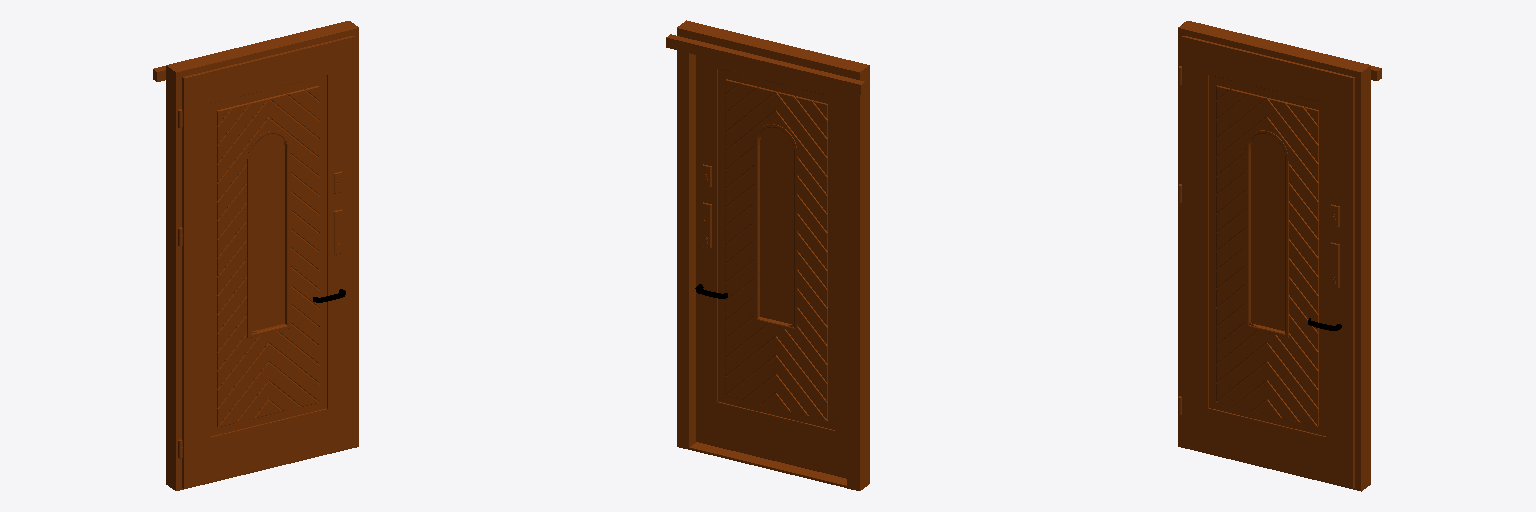
URDF robot description (urdf_door):
<?xml version="1.0" ?>
<robot name="urdf_door">
 <link name="world"/>
  <joint name="fixed" type="fixed">
    <parent link="world"/>
    <child link="baseLink"/>
    <origin xyz="0 0 0"/>
  </joint>

  <link name="baseLink">
    <inertial>
      <origin rpy="0 0 0" xyz="0 0 0"/>
       <mass value="0.1"/>
       <inertia ixx="0.1" ixy="0" ixz="0" iyy="0.1" iyz="0" izz="0.1"/>
    </inertial>
    <visual>
        <origin xyz='0 0 0' rpy='1.5707963267948966 0 0'/>
        <geometry>
          <mesh filename="door/055_frame.obj"  scale="0.01 0.01 0.01" />
        </geometry>
        <material name="brown">
          <color rgba="0.545 0.270 0.074 1"/>
        </material>
    </visual>
    <visual>
        <origin xyz='0 0.1 2' rpy='0 0 0'/>
        <geometry>
          <box size="1 0.04 0.05" />
        </geometry>
        <material name="brown">
          <color rgba="0.545 0.270 0.074 1"/>
        </material>
    </visual>
    <collision>
        <origin xyz='0 0 0' rpy='1.5707963267948966 0 0'/>
        <geometry>
          <mesh filename="door/055_frame_vhacd.obj"  scale="0.01 0.01 0.01" />
        </geometry>
        <material name="brown">
          <color rgba="0.545 0.270 0.074 1"/>
        </material>
    </collision>
    <collision>
        <origin xyz='0 0.1 2' rpy='0 0 0'/>
        <geometry>
          <box size="1 0.04 0.05" />
        </geometry>
        <material name="brown">
          <color rgba="0.545 0.270 0.074 1"/>
        </material>
    </collision>

  </link>
   <link name="childA">
    <inertial>
      <origin rpy="0 0 0" xyz="0 0 0"/>
      <mass value="0.1"/>
      <inertia ixx="0.048966669" ixy="0" ixz="0" iyy="0.046466667" iyz="0" izz="0.0041666669"/>
    </inertial>

    <visual>
    <origin xyz='0.45 0.04 0' rpy='1.5707963267948966 0 0'/>
    <geometry>
     <mesh filename="door/055_door.obj"  scale="0.01 0.01 0.01" />

    </geometry>
    <material name="brown">
        <color rgba="0.545 0.270 0.074 1"/>
    </material>

	</visual>
    <collision>
    <origin xyz='0.45 0.04 0' rpy='1.5707963267948966 0 0'/>
    <geometry>
     <mesh filename="door/055_door.obj"  scale="0.01 0.01 0.01" />
    </geometry>
    <material name="brown">
        <color rgba="0.545 0.270 0.074 1"/>
    </material>

    </collision>

   </link>


   <link name="knob">
    <inertial>
      <mass value="0.1"/>
      <inertia ixx="0.0" ixy="0" ixz="0" iyy="0.0" iyz="0" izz="0.0"/>
    </inertial>

    <visual>
    <geometry>
     <mesh filename="door/055_knob_centered.obj"  scale="0.01 0.01 0.01" />

    </geometry>
    <material name="black">
        <color rgba="0.0 0.0 0.0 1"/>
    </material>

  </visual>
    <collision>
    <geometry>
     <mesh filename="door/055_knob_centered.obj"  scale="0.01 0.01 0.01" />
    </geometry>
    <material name="black">
        <color rgba="0.0 0.0 0.0 1"/>
    </material>
    </collision>
   </link>



   <joint name="joint_baseLink_childA" type="revolute">
    <parent link="baseLink"/>
    <child link="childA"/>
	<dynamics damping="1.0" friction="0.0"/>
    <origin xyz="-0.45 -0.04 0"/>
    <axis xyz="0 0 1"/>
    <limit lower="-3.14159263" upper="0" />
  </joint>


  <joint name="door_to_knob" type="fixed">
  <parent link="childA"/>
  <child link="knob"/>
  <origin xyz="0.78 0.04 0.8" rpy="1.57 0 0"/>
  </joint>


</robot>

--- What the picture shows (computed from the rendered views, not written in the file) ---
The picture shows the robot from 3 angles, left to right: view 1: azimuth 30°, elevation 25°; view 2: azimuth 150°, elevation 25°; view 3: azimuth 330°, elevation 25°; orthographic projection.
Model urdf_door with 4 links and 3 joints (1 revolute, 2 fixed), rooted at world, posed every joint at zero.
Visible links, largest first — view 1: childA, baseLink; view 2: childA, baseLink; view 3: childA, baseLink.
Link boxes in pixels (x1,y1,x2,y2): childA: (178, 36, 354, 488); baseLink: (153, 21, 358, 490); childA: (696, 55, 846, 478); baseLink: (666, 20, 869, 490); childA: (1178, 36, 1354, 488); baseLink: (1178, 21, 1381, 491).
Bounding box of the posed robot: 1 × 0.2033 × 2.06 m (x, y, z).
3 mesh visuals loaded from 3 distinct referenced files (3 OBJ).